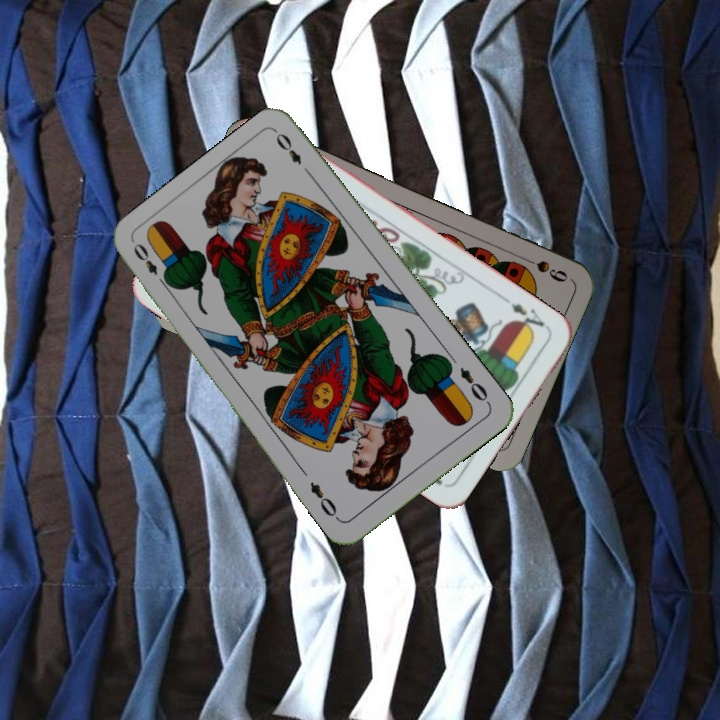EA: (499, 294, 552, 336)
EO: (129, 239, 172, 291), (455, 363, 493, 408)
S9: (515, 252, 571, 285)
